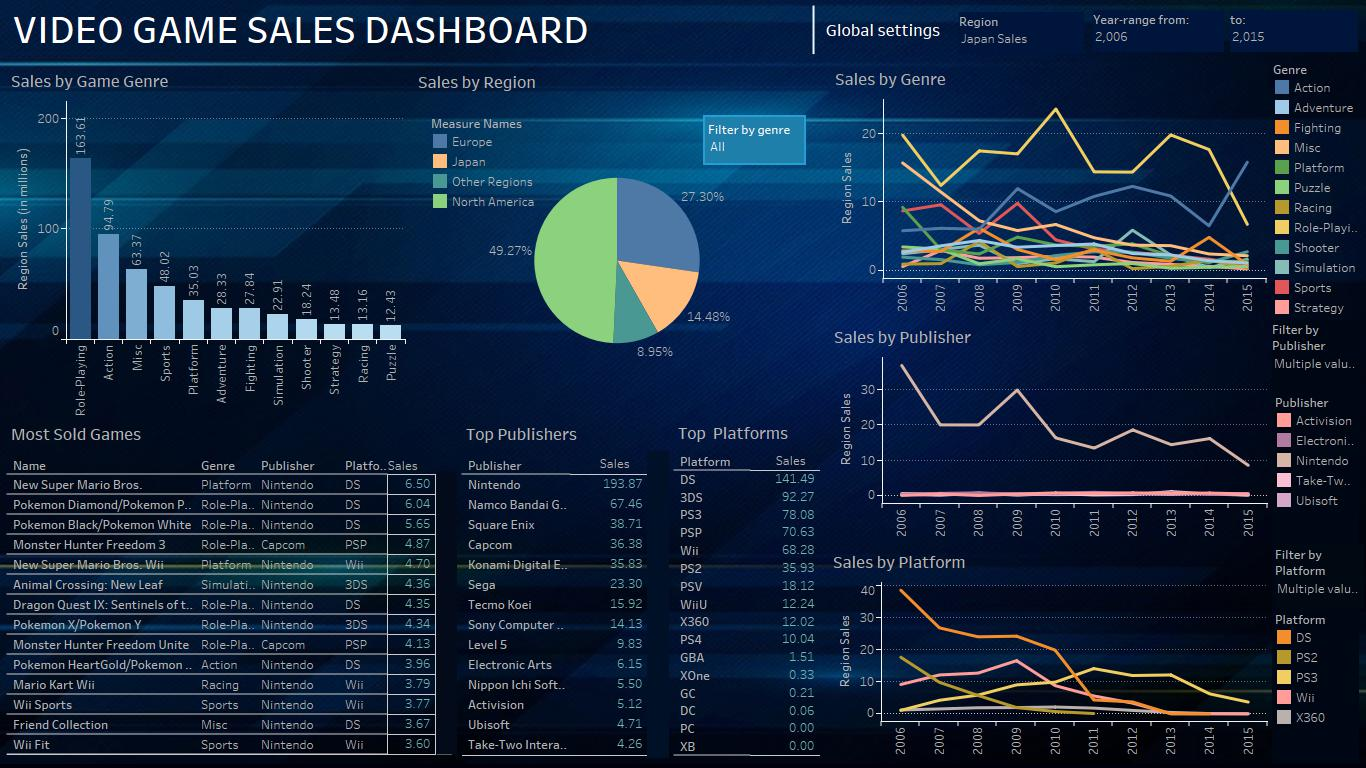

The dashboard page shown, as its layout file describes it:
{"tool":"tableau","page":{"name":"Dashboard 1","canvas":[1366,768],"ordinal":0},"visuals":[{"type":"parameter","param":"[Parameters].[Parameter 1]","box":[529,4,150,50]},{"type":"parameter","param":"[Parameters].[Parameter 3]","box":[807,5,126,67]},{"type":"parameter","param":"[Parameters].[Parameter 2]","box":[698,7,120,50]},{"type":"title","box":[8,8,1350,44]},{"type":"worksheet","title":"Sales-genre","mark":"Automatic","rows":["Calculation_330451681605750784"],"cols":["F5"],"box":[8,52,410,354]},{"type":"worksheet","title":"%sales-region","mark":"Pie","box":[418,52,411,354]},{"type":"worksheet","title":"sales-years-genre","mark":"Line","rows":["Calculation_330451681605750784"],"cols":["F4"],"box":[829,52,435,249]},{"type":"legend","title":"sales-years-genre","param":"[federated.0rc73sq1olvrj818etojb1lzlh97].[none:F5:nk]","box":[1264,52,94,233.5]},{"type":"legend","title":"%sales-region","param":"[federated.0rc73sq1olvrj818etojb1lzlh97].[:Measure Names]","box":[424,94,121,114]},{"type":"filter","title":"%sales-region","param":"[federated.0rc73sq1olvrj818etojb1lzlh97].[none:F5:nk]","box":[729,96,103,279]},{"type":"filter","title":"sales-years-publ","param":"[federated.0rc73sq1olvrj818etojb1lzlh97].[none:F6:nk]","box":[1264,285.5,94,223.2]},{"type":"legend","title":"sales-years-publ","param":"[federated.0rc73sq1olvrj818etojb1lzlh97].[none:F6:nk]","box":[1133,300,125,135]},{"type":"worksheet","title":"sales-years-publ","mark":"Line","rows":["Calculation_330451681605750784"],"cols":["F4"],"box":[829,301,435,225]},{"type":"worksheet","title":"games-sales","mark":"Automatic","rows":["F2","F5","F6","F3"],"box":[8,406,447,354]},{"type":"worksheet","title":"publish-sales","mark":"Automatic","rows":["F6"],"box":[455,406,201,354]},{"type":"worksheet","title":"plat-sales","mark":"Automatic","rows":["F3"],"box":[656,406,173,354]},{"type":"filter","title":"sales-years-plat","param":"[federated.0rc73sq1olvrj818etojb1lzlh97].[none:F3:nk]","box":[1264,508.6,94,251.4]},{"type":"worksheet","title":"sales-years-plat","mark":"Line","rows":["Calculation_330451681605750784"],"cols":["F4"],"box":[829,526,435,234]},{"type":"legend","title":"sales-years-plat","param":"[federated.0rc73sq1olvrj818etojb1lzlh97].[none:F3:nk]","box":[1199,550,65,131]}]}

Visuals, with their boxes in screenshot pixels (x1, y1, x2, y2), scaled from the page's 1366x768 canvas onto the 1366x768 screenshot:
parameter: 529, 4, 679, 54
parameter: 807, 5, 933, 72
parameter: 698, 7, 818, 57
title: 8, 8, 1358, 52
"Sales-genre" worksheet: 8, 52, 418, 406
"%sales-region" worksheet (Pie marks): 418, 52, 829, 406
"sales-years-genre" worksheet (Line marks): 829, 52, 1264, 301
"sales-years-genre" legend: 1264, 52, 1358, 286
"%sales-region" legend: 424, 94, 545, 208
"%sales-region" filter: 729, 96, 832, 375
"sales-years-publ" filter: 1264, 286, 1358, 509
"sales-years-publ" legend: 1133, 300, 1258, 435
"sales-years-publ" worksheet (Line marks): 829, 301, 1264, 526
"games-sales" worksheet: 8, 406, 455, 760
"publish-sales" worksheet: 455, 406, 656, 760
"plat-sales" worksheet: 656, 406, 829, 760
"sales-years-plat" filter: 1264, 509, 1358, 760
"sales-years-plat" worksheet (Line marks): 829, 526, 1264, 760
"sales-years-plat" legend: 1199, 550, 1264, 681
